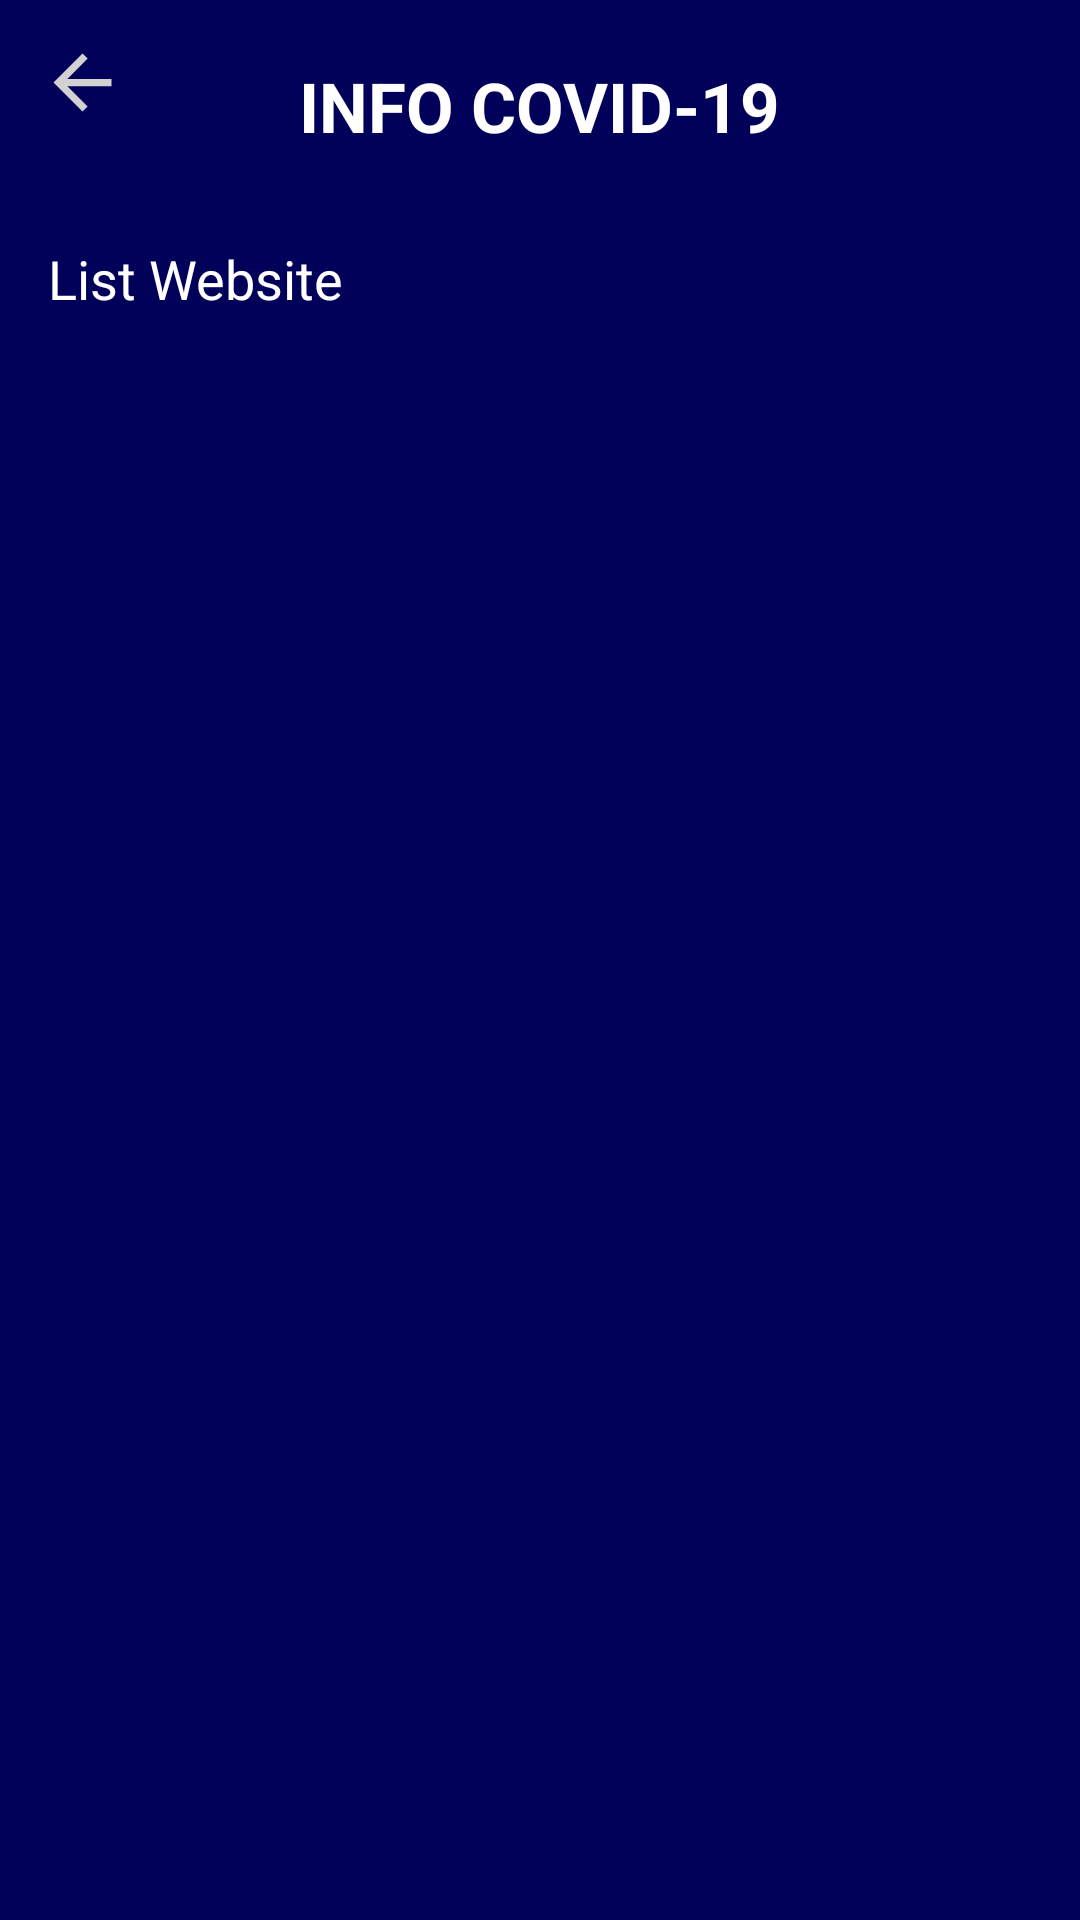

Named icons in this screenshot (1080px×1920px) and their centers, (x,y):
arrow back: (82,82)
